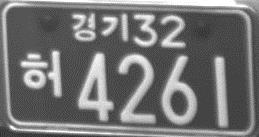1: (209, 54, 235, 131)
2: (117, 53, 159, 126), (158, 14, 185, 49)
3: (132, 12, 158, 47)
4: (76, 52, 114, 123)
6: (162, 53, 198, 126)
경기_O: (70, 11, 130, 44)
허: (18, 48, 65, 99)
